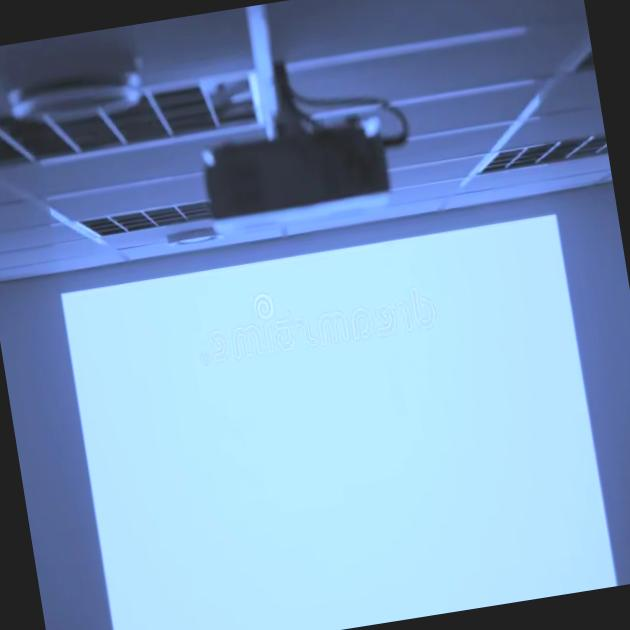projector: (43, 177, 627, 630), (137, 78, 421, 242)
